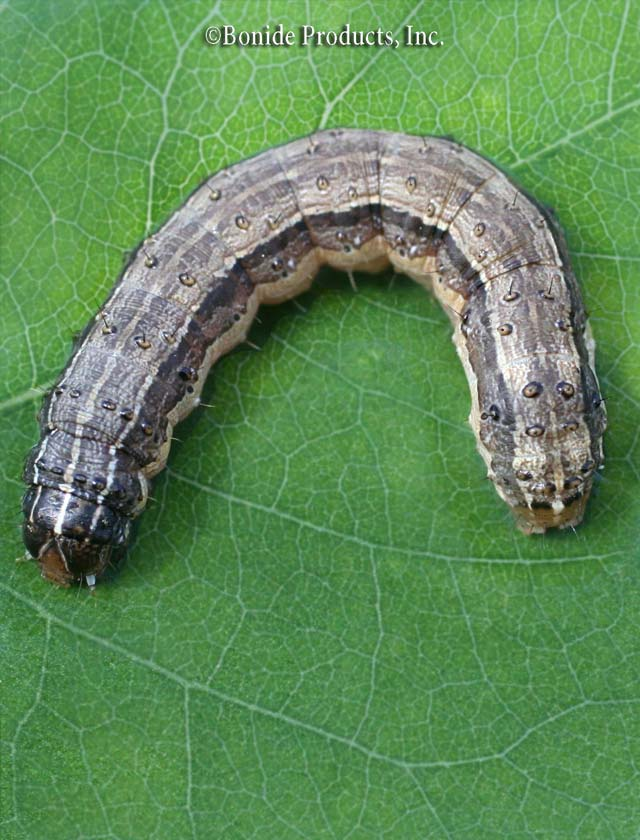Armyworms: (13, 106, 620, 610)
